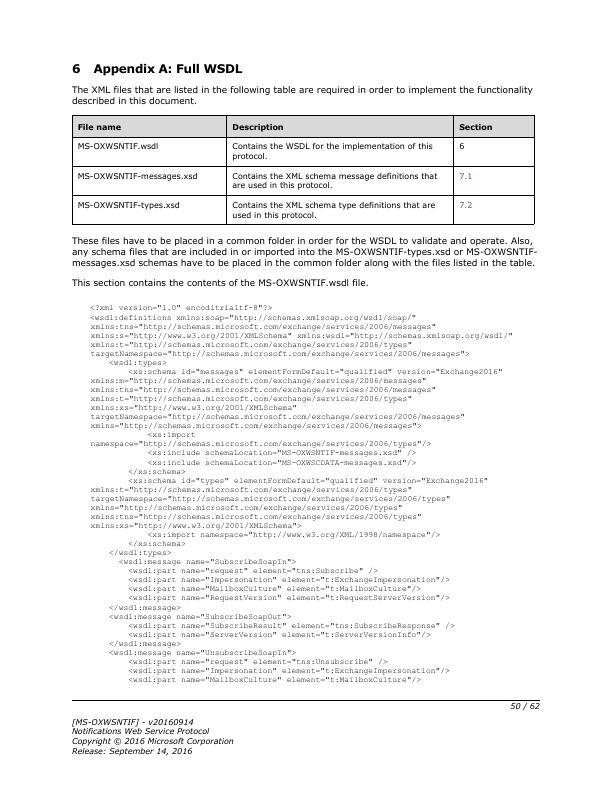table: (70, 115, 538, 227)
text: (88, 302, 515, 686), (68, 232, 537, 270), (70, 83, 537, 108), (68, 715, 235, 758), (70, 276, 369, 289), (68, 60, 244, 77)
